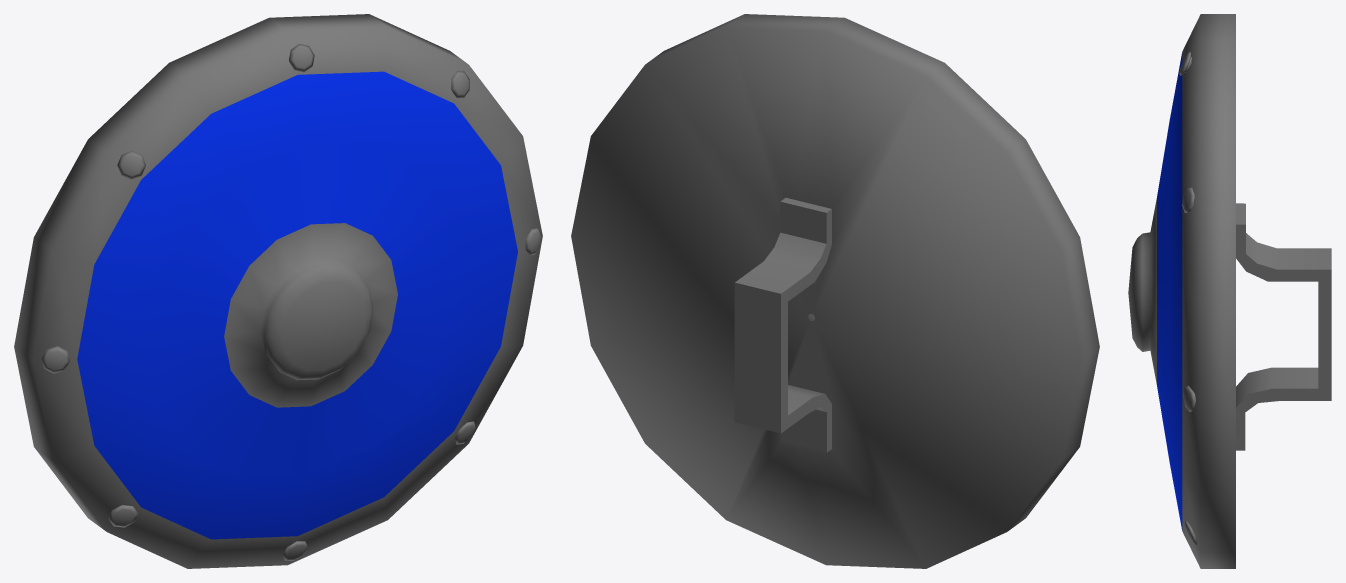
Rendered from blue shield 3.FBX.
3 views of the same model, side by side, from view 1: azimuth 30°, elevation 25°; view 2: azimuth 150°, elevation 25°; view 3: azimuth 270°, elevation 25° (orthographic). The views are drawn at different scales.
Visible parts, largest first — view 1: C-Ext001; view 2: C-Ext001; view 3: C-Ext001.
Boxes of the visible parts, left/top/right/bottom form: C-Ext001: left=14, top=14, right=542, bottom=568; C-Ext001: left=571, top=14, right=1099, bottom=568; C-Ext001: left=1128, top=14, right=1331, bottom=568.
Bounding box in the file's own units: 85.82 × 85.82 × 31.5.
